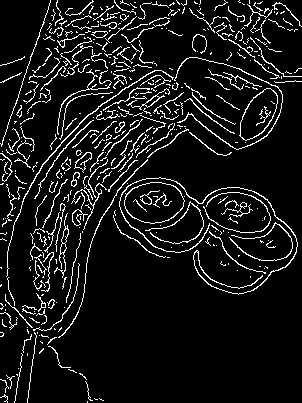cucumber: (8, 64, 188, 343), (196, 180, 276, 239), (115, 172, 189, 233)
